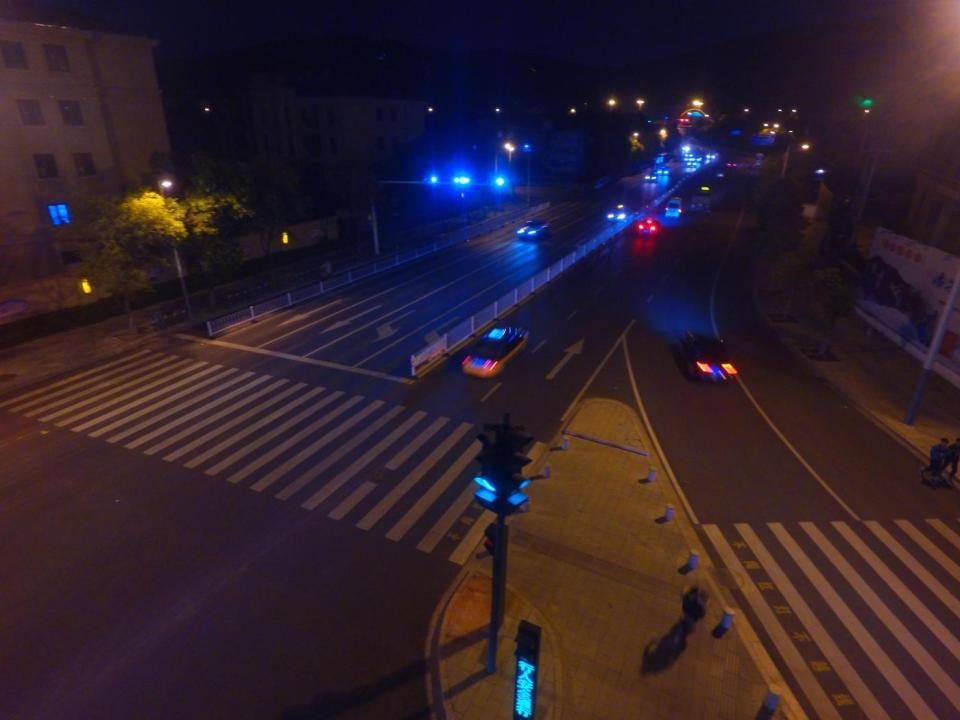car: (677, 330, 736, 386), (466, 326, 528, 374), (514, 219, 549, 241), (639, 218, 661, 238), (608, 202, 630, 222), (643, 172, 658, 182), (725, 159, 738, 168), (658, 166, 670, 175)
van: (689, 187, 715, 214), (663, 198, 684, 220)
